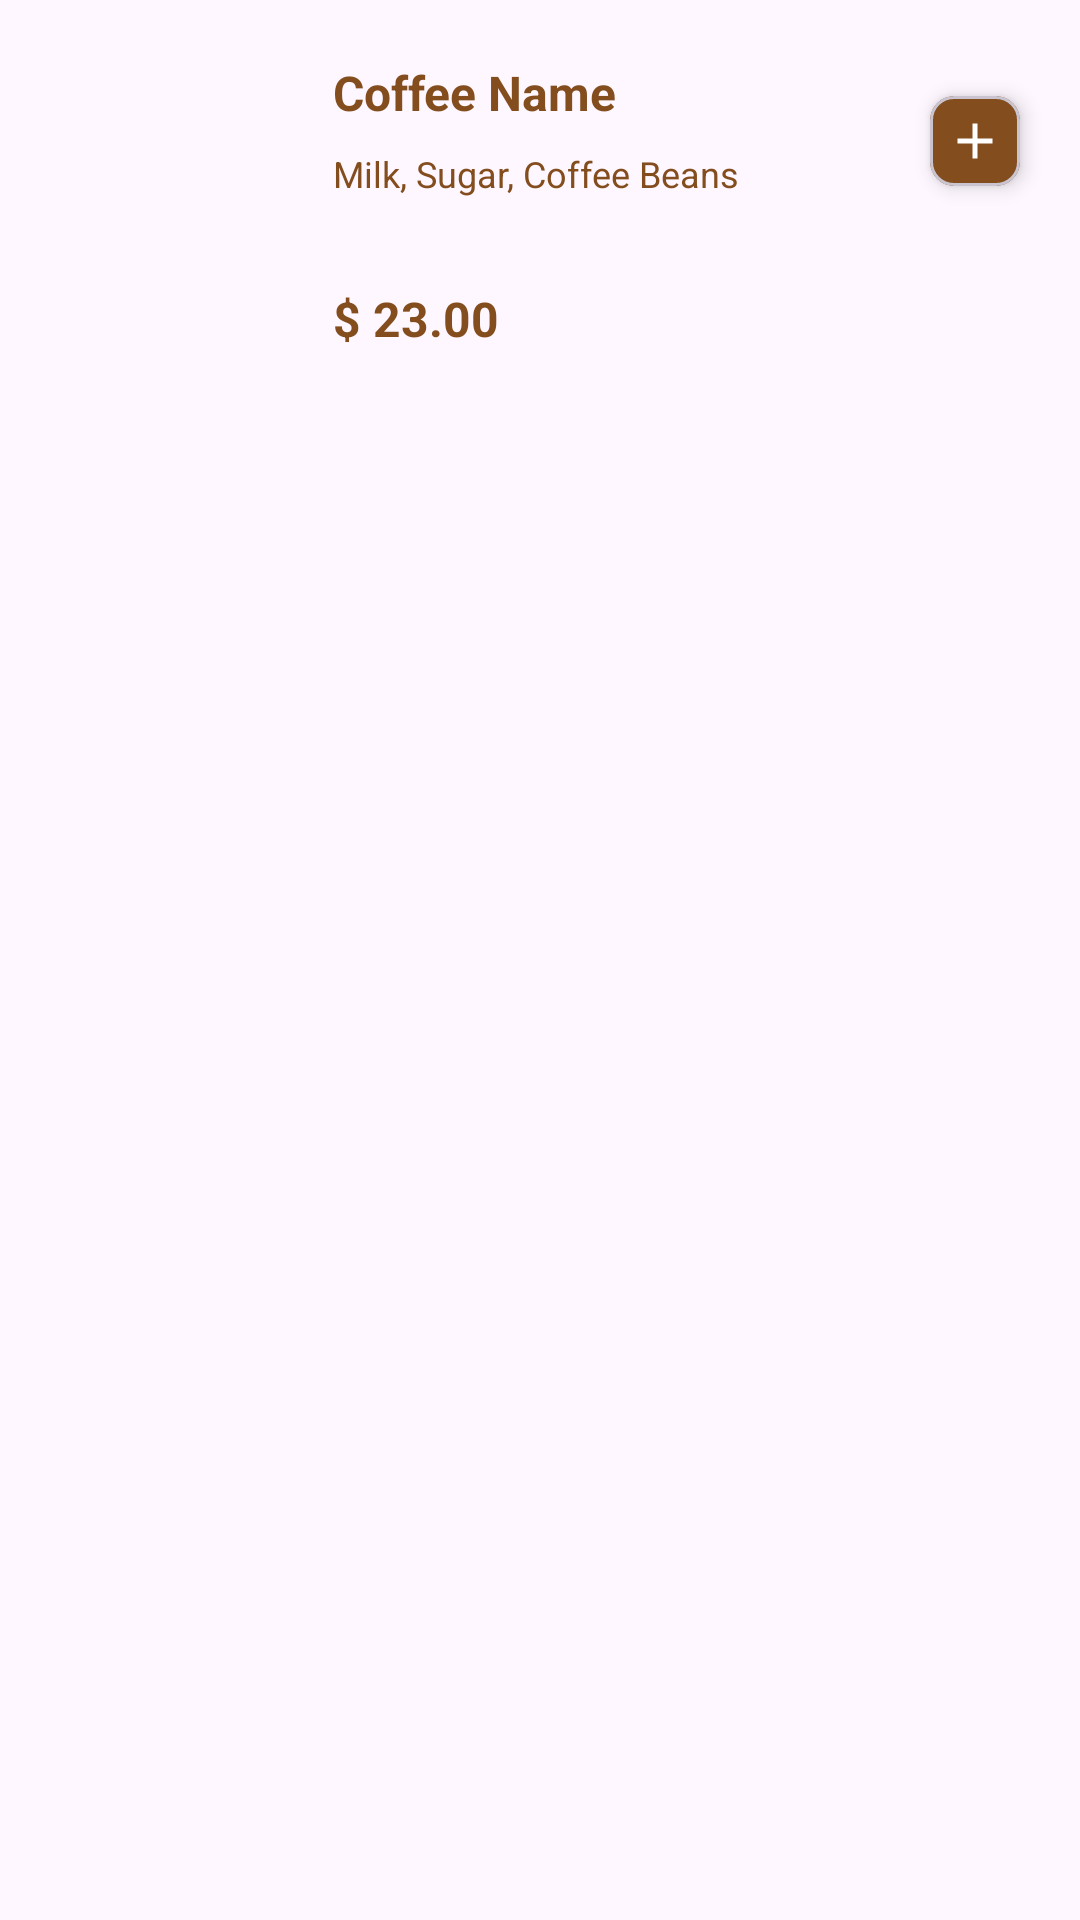

Where to tap for icons on this 1080 × 1920 app screen, as point (x, y):
add: point (975, 141)
